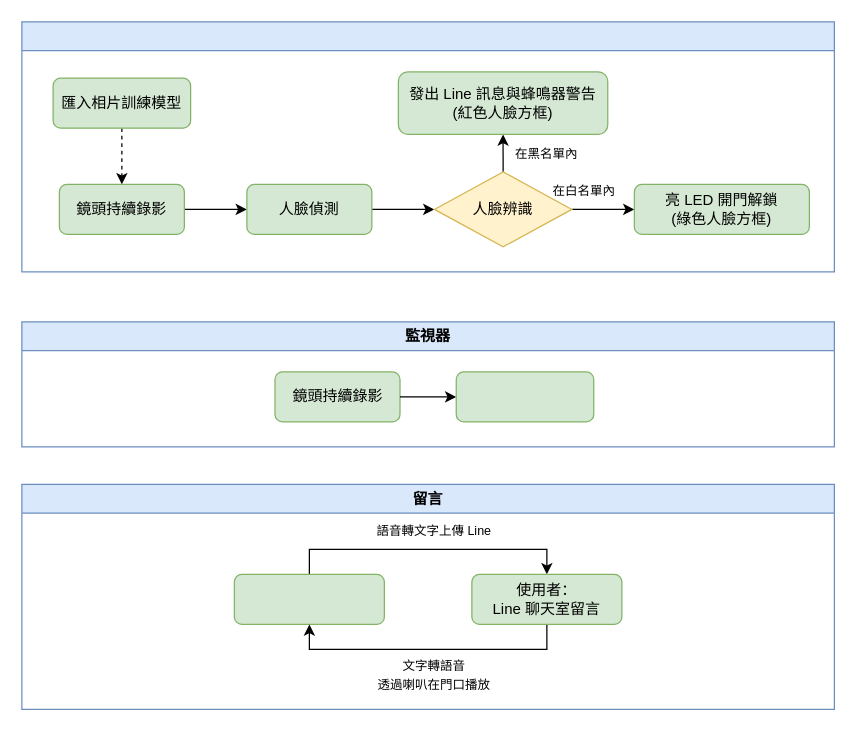
This 856x731 diagram has some shape labels left out. The shapes that lost their labels are listed below. From the top down, each one's centre as x and y in pixels, then its label:
the point at 427,146: 訪客辨識
the point at 524,396: 影片編碼並串流至 YouTube
the point at 308,598: 訪客： 靠近系統並留言
